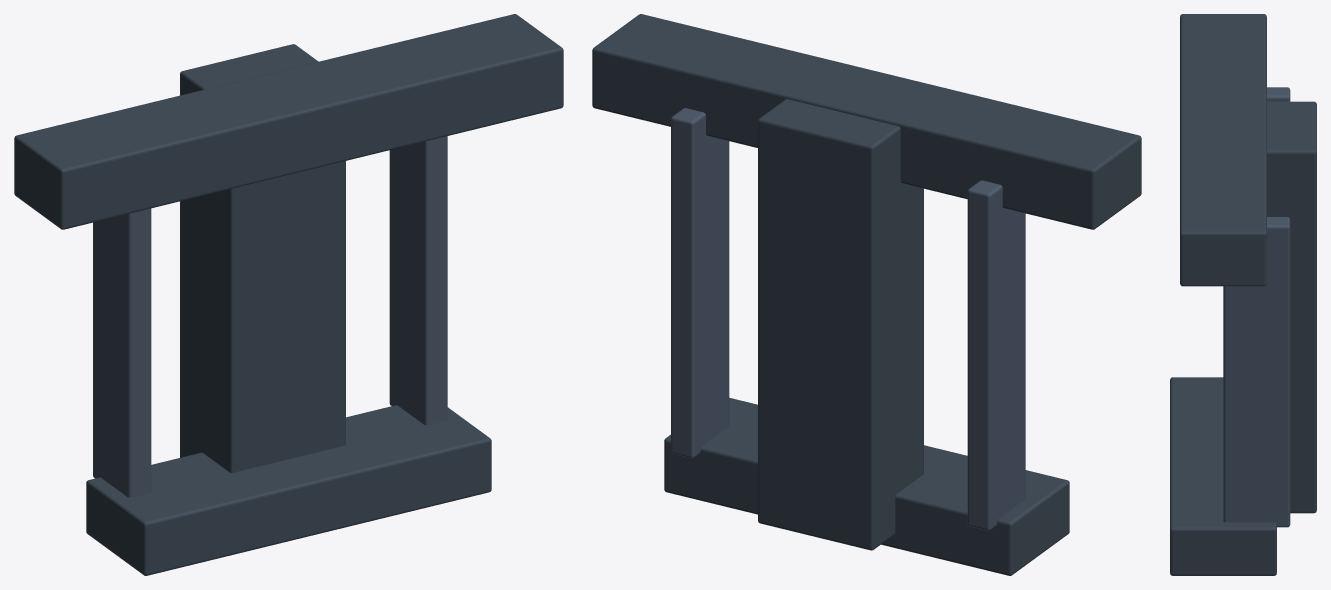
Rendered from modular_torso_frame.obj.
The picture shows the model from 3 angles, left to right: view 1: azimuth 30°, elevation 25°; view 2: azimuth 150°, elevation 25°; view 3: azimuth 270°, elevation 25°; orthographic projection. The views are drawn at different scales.
Parts seen in each view (by area): view 1: modular_torso_frame; view 2: modular_torso_frame; view 3: modular_torso_frame.
Part boxes in pixels (x1,y1,x2,y2): modular_torso_frame: (14, 14, 563, 575); modular_torso_frame: (592, 14, 1141, 575); modular_torso_frame: (1170, 14, 1316, 575).
Size of the model in its own units: 0.39 by 0.3125 by 0.11.
